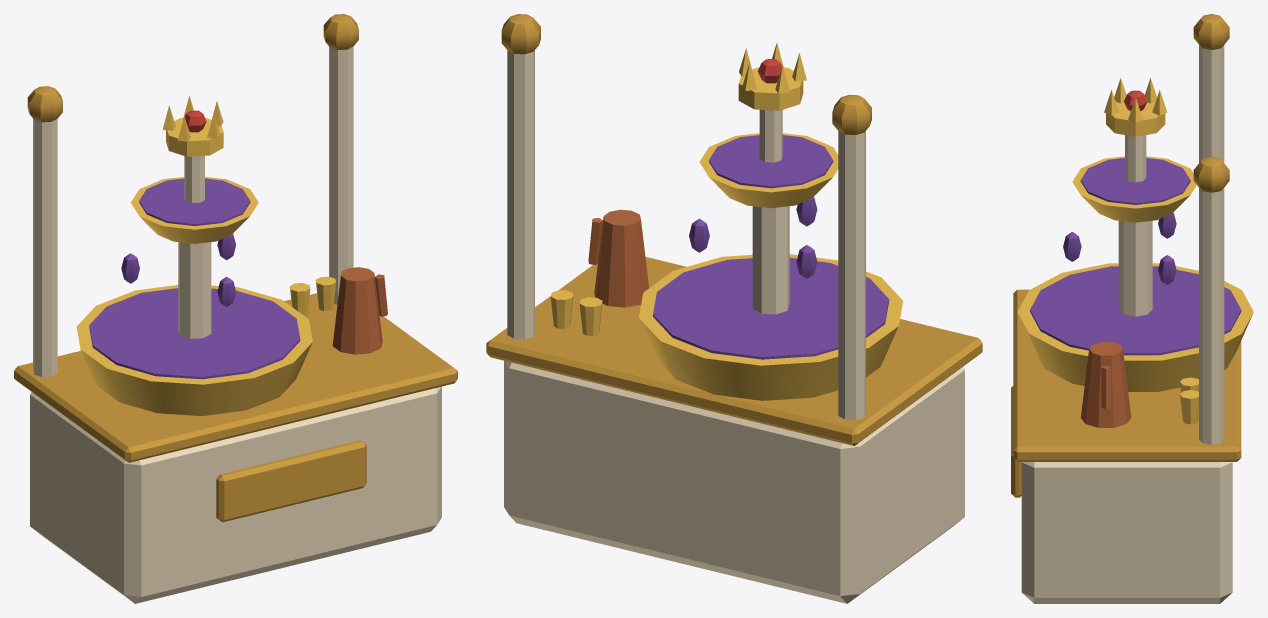
File: PR_Station_Serbet_T2.fbx
3 renders of one model, left to right at view 1: azimuth 30°, elevation 25°; view 2: azimuth 150°, elevation 25°; view 3: azimuth 270°, elevation 25°, orthographic. The views are drawn at different scales.
Visible parts, largest first — view 1: PR_Station_Serbet_T2; view 2: PR_Station_Serbet_T2; view 3: PR_Station_Serbet_T2.
Boxes of the visible parts, x1,y1,x2,y2 form: PR_Station_Serbet_T2: (14, 14, 457, 603); PR_Station_Serbet_T2: (486, 14, 982, 603); PR_Station_Serbet_T2: (1011, 14, 1253, 603).
Bounding box in the file's own units: 0.9 × 1.16 × 0.575.
